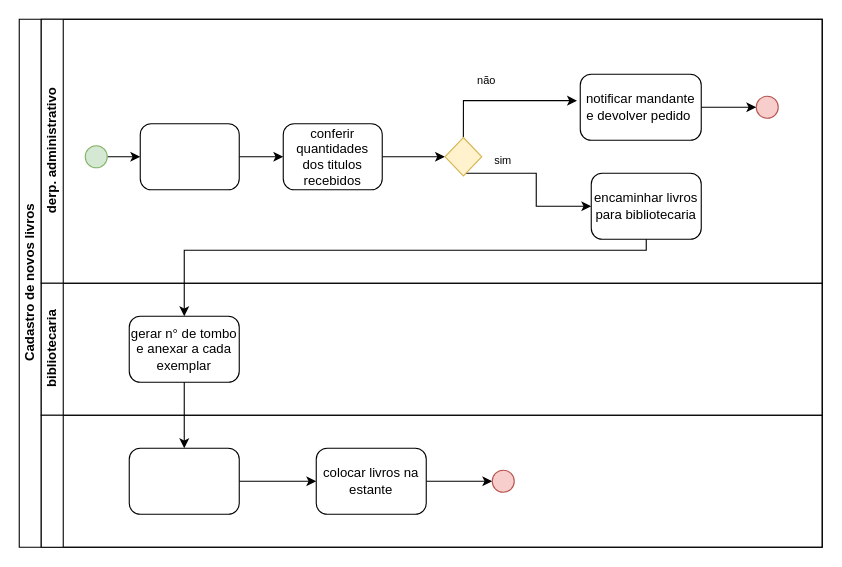
Image size: 842x567. Some labels were removed from this diagram. Each missing label, with the box of its shape:
Atendente: (40, 414, 822, 547)
gerar fixa para título: (128, 447, 239, 514)
quantidade de titulos igual nota fiscal?: (444, 136, 482, 176)
receber novos livros: (139, 123, 239, 190)
